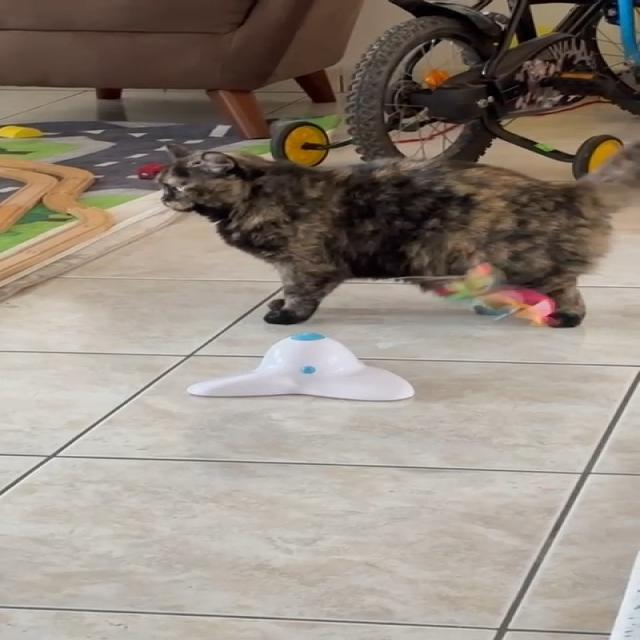authorized: (153, 140, 639, 328)
